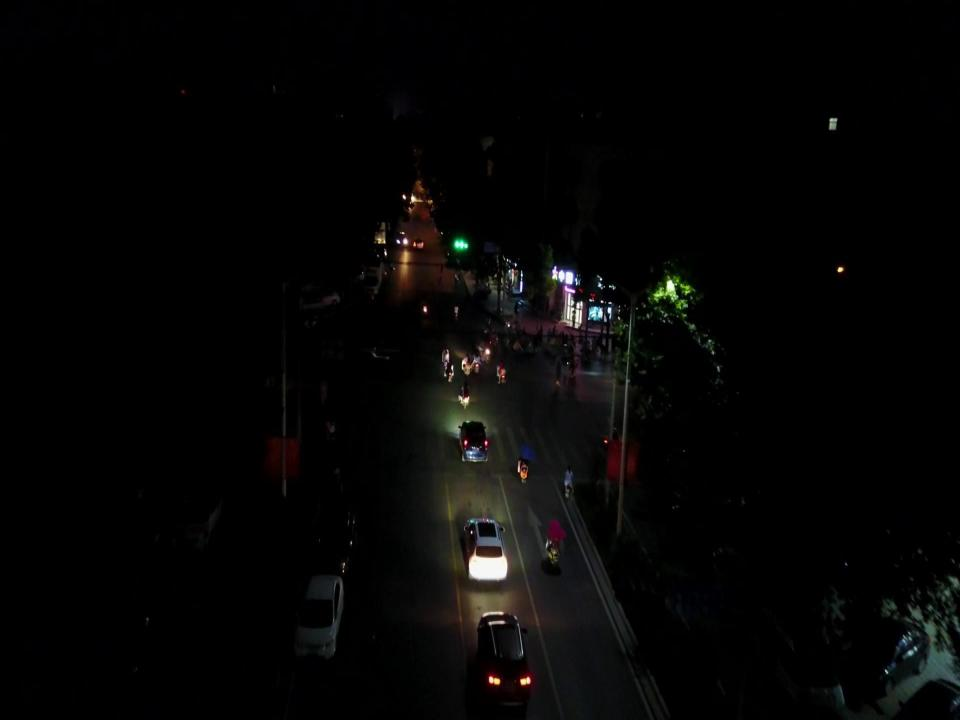car: (851, 608, 931, 693), (480, 608, 532, 706), (293, 570, 344, 658), (464, 514, 508, 584), (317, 502, 361, 567), (458, 417, 490, 464), (395, 230, 407, 248), (412, 237, 424, 251)
